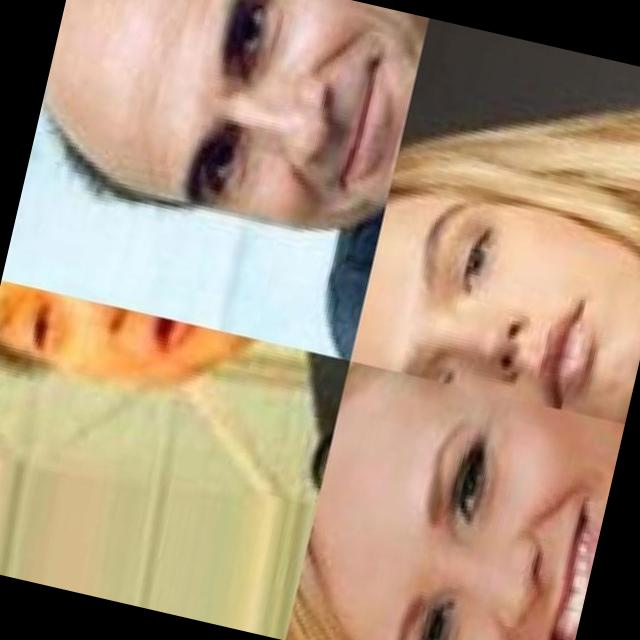bareface: (40, 0, 425, 254)
